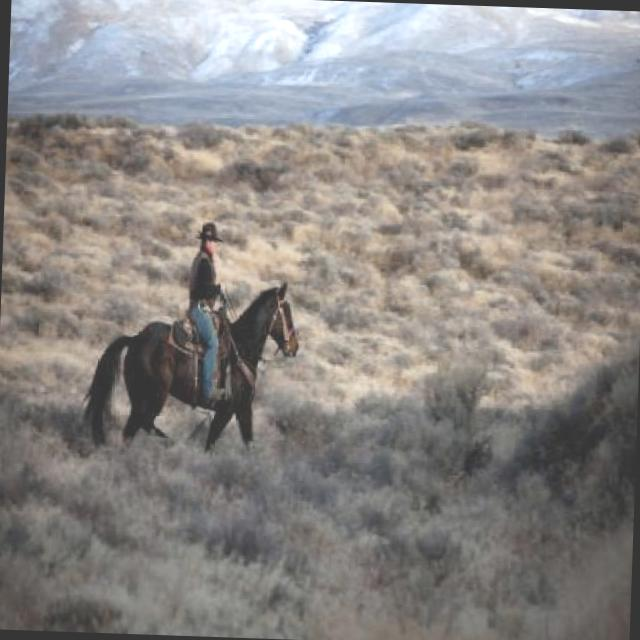Person: (180, 224, 229, 406)
